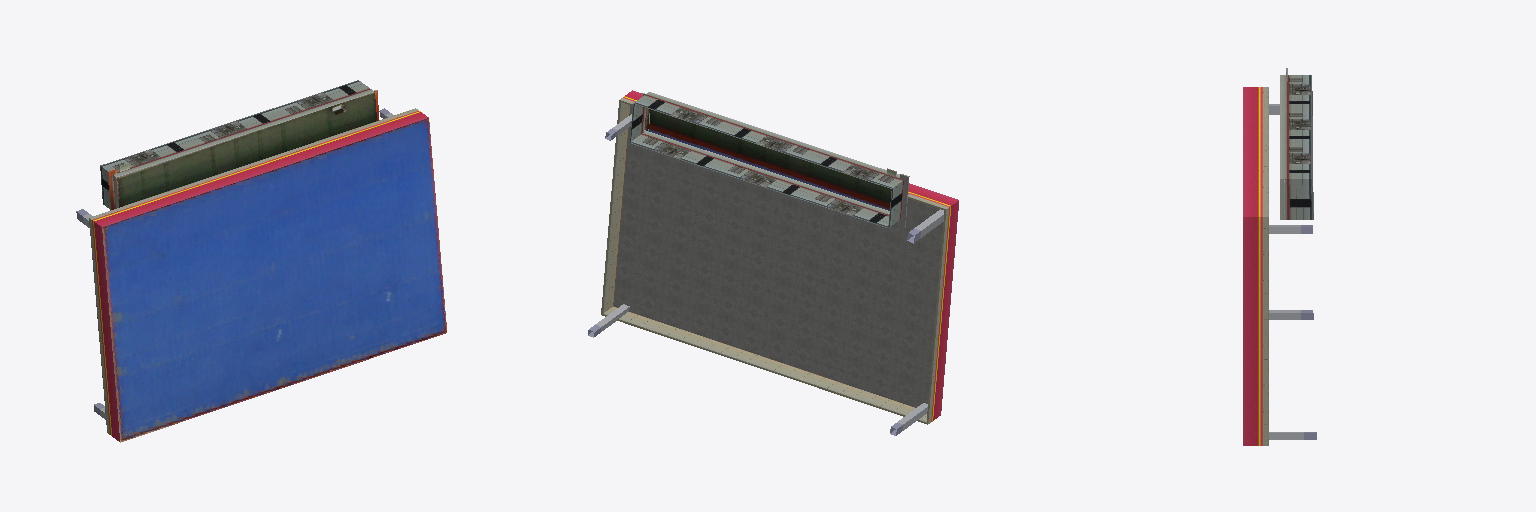
The picture shows the model from 3 angles: view 1: azimuth 30°, elevation 25°; view 2: azimuth 150°, elevation 25°; view 3: azimuth 270°, elevation 25°; orthographic projection.
Parts seen in each view (by area): view 1: Group_MatrixTransform_i95027_Geometry_16, Group_MatrixTransform_i95027_Geometry_11, Group_MatrixTransform_i95027_Geometry_5, Group_MatrixTransform_i95027_Geometry_0, Group_MatrixTransform_i95027_Geometry_4; view 2: Group_MatrixTransform_i95027_Geometry_3, Group_MatrixTransform_i95027_Geometry_0, Group_MatrixTransform_i95027_Geometry_4, Group_MatrixTransform_i95027_Geometry_11, Group_MatrixTransform_i95027_Geometry_5, Group_MatrixTransform_i95027_Geometry_6, Group_MatrixTransform_i95027_Geometry_2, Group_MatrixTransform_i95027_Geometry_1; view 3: Group_MatrixTransform_i95027_Geometry_5, Group_MatrixTransform_i95027_Geometry_0, Group_MatrixTransform_i95027_Geometry_4, Group_MatrixTransform_i95027_Geometry_6, Group_MatrixTransform_i95027_Geometry_1.
Part boxes in pixels (bbox=[...]): Group_MatrixTransform_i95027_Geometry_16: bbox=[102, 118, 446, 442]; Group_MatrixTransform_i95027_Geometry_11: bbox=[116, 92, 376, 207]; Group_MatrixTransform_i95027_Geometry_5: bbox=[92, 111, 428, 441]; Group_MatrixTransform_i95027_Geometry_0: bbox=[100, 80, 373, 177]; Group_MatrixTransform_i95027_Geometry_4: bbox=[89, 108, 418, 434]; Group_MatrixTransform_i95027_Geometry_3: bbox=[613, 105, 943, 407]; Group_MatrixTransform_i95027_Geometry_0: bbox=[630, 92, 903, 227]; Group_MatrixTransform_i95027_Geometry_4: bbox=[603, 98, 948, 423]; Group_MatrixTransform_i95027_Geometry_11: bbox=[649, 109, 891, 210]; Group_MatrixTransform_i95027_Geometry_5: bbox=[623, 90, 958, 421]; Group_MatrixTransform_i95027_Geometry_6: bbox=[588, 114, 943, 435]; Group_MatrixTransform_i95027_Geometry_2: bbox=[601, 100, 945, 424]; Group_MatrixTransform_i95027_Geometry_1: bbox=[629, 104, 903, 227]; Group_MatrixTransform_i95027_Geometry_5: bbox=[1243, 87, 1262, 445]; Group_MatrixTransform_i95027_Geometry_0: bbox=[1280, 75, 1313, 213]; Group_MatrixTransform_i95027_Geometry_4: bbox=[1263, 87, 1268, 445]; Group_MatrixTransform_i95027_Geometry_6: bbox=[1269, 104, 1316, 439]; Group_MatrixTransform_i95027_Geometry_1: bbox=[1280, 91, 1313, 219].
Size of the model in its own units: 53.36 by 39.95 by 10.02.
Materials: 18 (18 with a texture image).